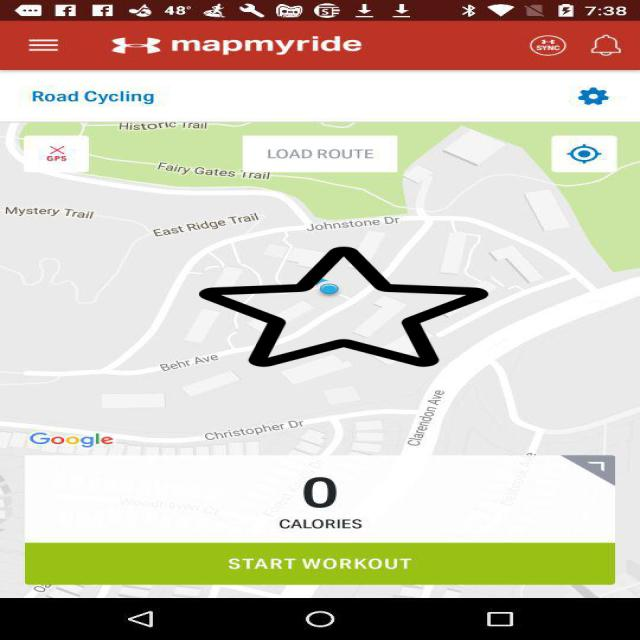forced continuity: (199, 244, 488, 369)
